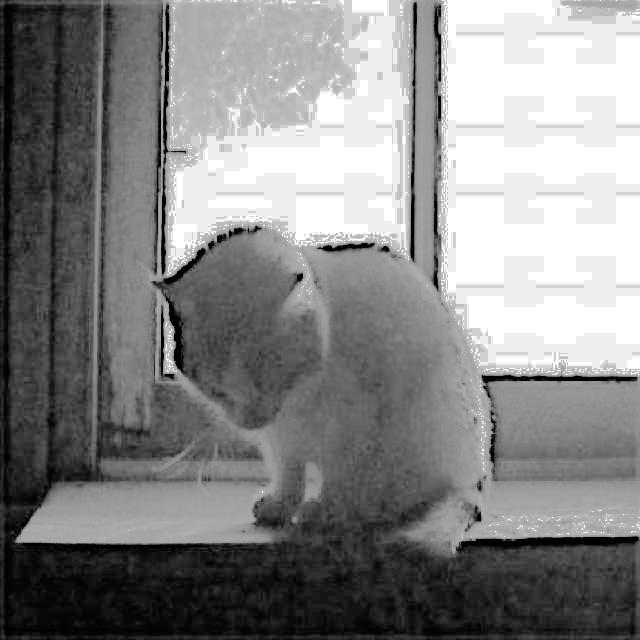Cat: (146, 211, 491, 565)
